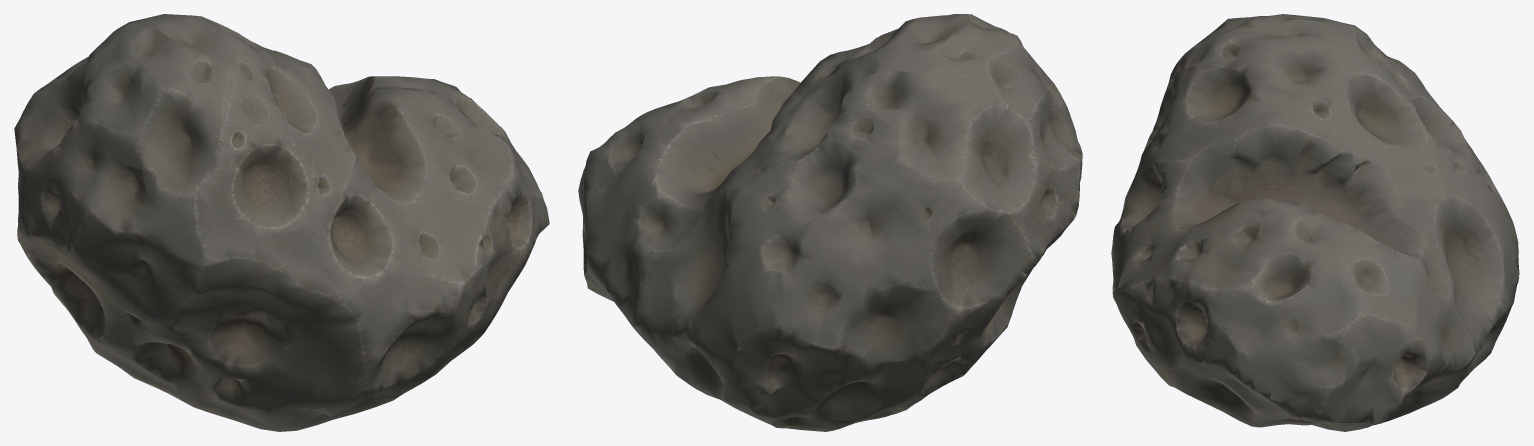
File: runtime_medium_03.glb
3 views of the same model, side by side, from view 1: azimuth 30°, elevation 25°; view 2: azimuth 150°, elevation 25°; view 3: azimuth 270°, elevation 25° (orthographic). The views are drawn at different scales.
Parts seen in each view (by area): view 1: tripo_node_5db213fc-5540-4624-b6e5-87fec689fe1e; view 2: tripo_node_5db213fc-5540-4624-b6e5-87fec689fe1e; view 3: tripo_node_5db213fc-5540-4624-b6e5-87fec689fe1e.
Part boxes in pixels (bbox=[...]): tripo_node_5db213fc-5540-4624-b6e5-87fec689fe1e: bbox=[14, 14, 549, 431]; tripo_node_5db213fc-5540-4624-b6e5-87fec689fe1e: bbox=[578, 14, 1082, 431]; tripo_node_5db213fc-5540-4624-b6e5-87fec689fe1e: bbox=[1111, 14, 1519, 431].
Size of the model in its own units: 0.9789 by 0.7644 by 0.8246.
1 material, 1 textured.
